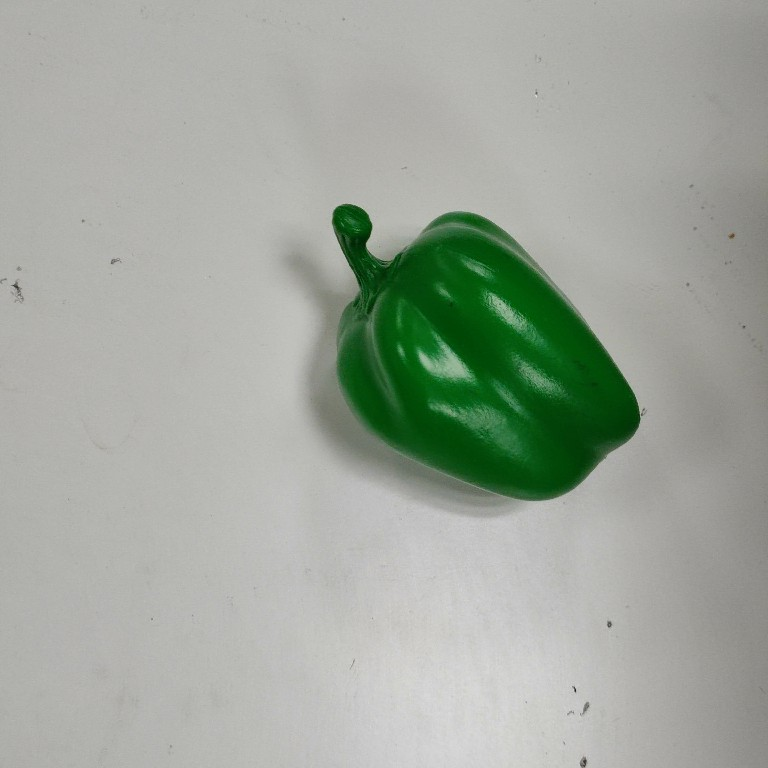fruit_pepper: (325, 199, 644, 508)
